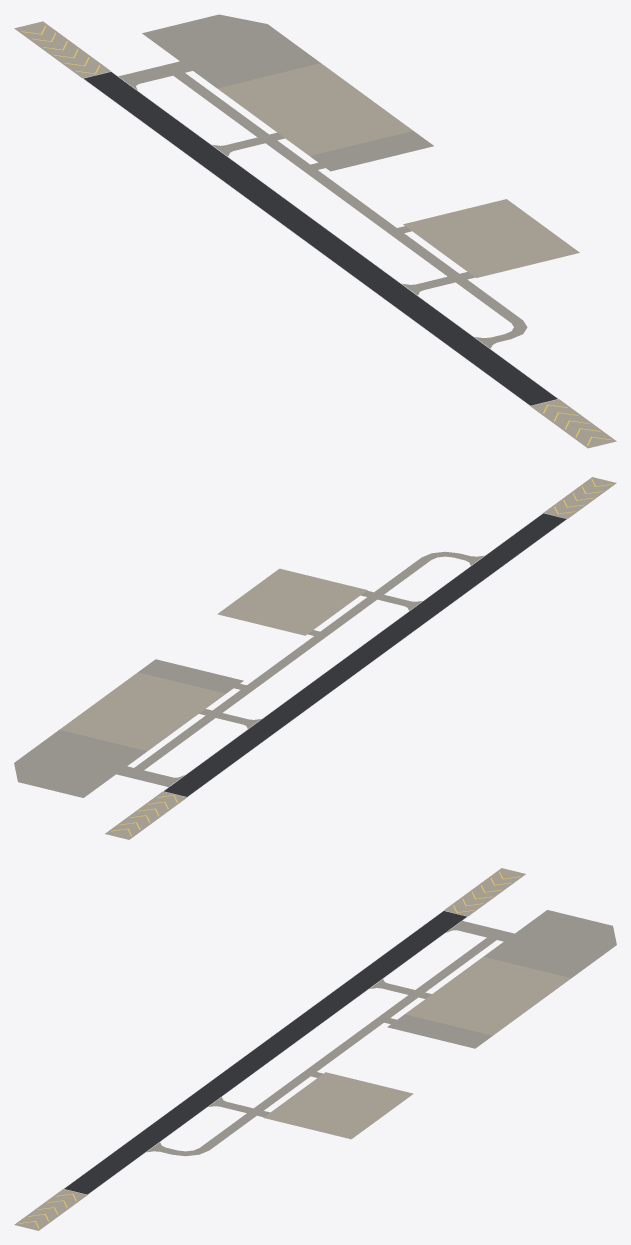
Rendered from HaniwaField.fbx.
The picture shows the model from 3 angles, top to bottom: view 1: azimuth 30°, elevation 25°; view 2: azimuth 150°, elevation 25°; view 3: azimuth 330°, elevation 25°; orthographic projection. The views are drawn at different scales.
Parts seen in each view (by area): view 1: Ramp, Runway; view 2: Ramp, Runway; view 3: Ramp, Runway.
Part boxes in pixels (x1=…): Ramp: x1=118, y1=14, x2=579, y2=348; Runway: x1=14, y1=21, x2=616, y2=448; Ramp: x1=14, y1=551, x2=484, y2=797; Runway: x1=105, y1=477, x2=616, y2=839; Ramp: x1=146, y1=910, x2=616, y2=1156; Runway: x1=14, y1=868, x2=525, y2=1230.
Bounding box in the file's own units: 301 × 0.0202 × 1538.
